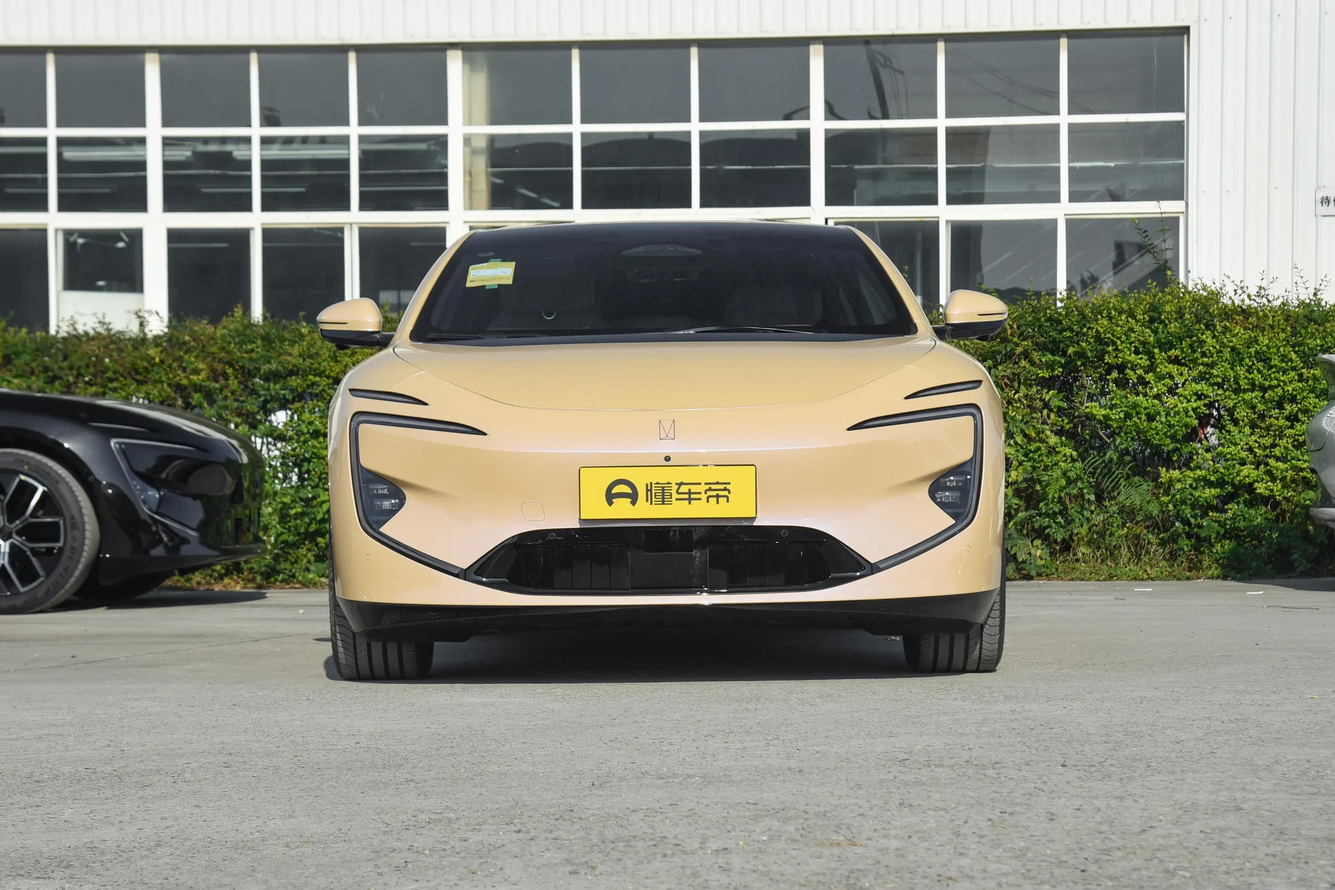AVATR: (660, 419, 674, 440)
